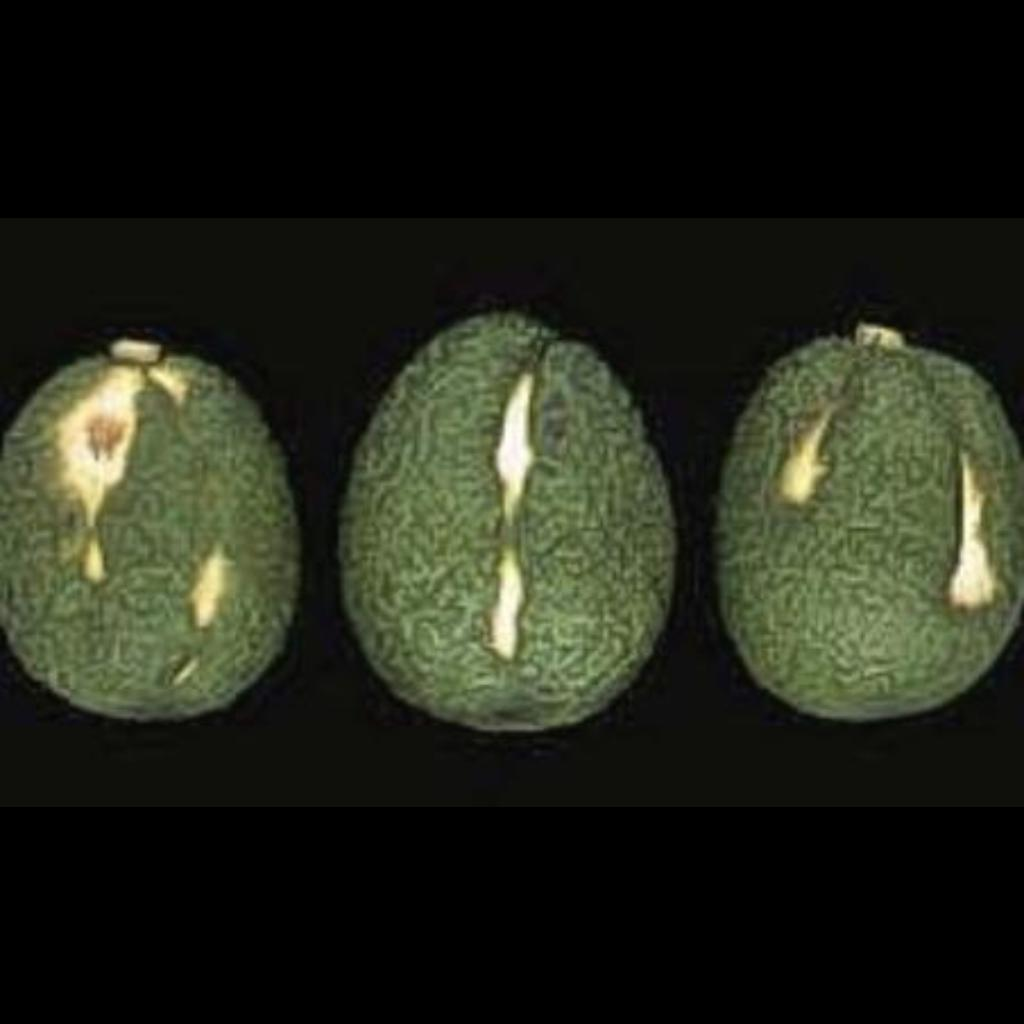sunblotch: (342, 316, 696, 726), (723, 329, 1023, 725), (9, 344, 308, 736)
